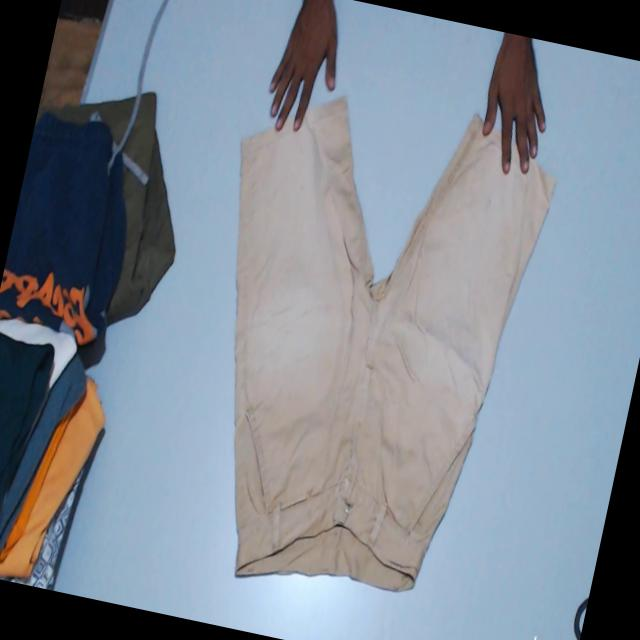new-garment: (234, 97, 553, 590)
